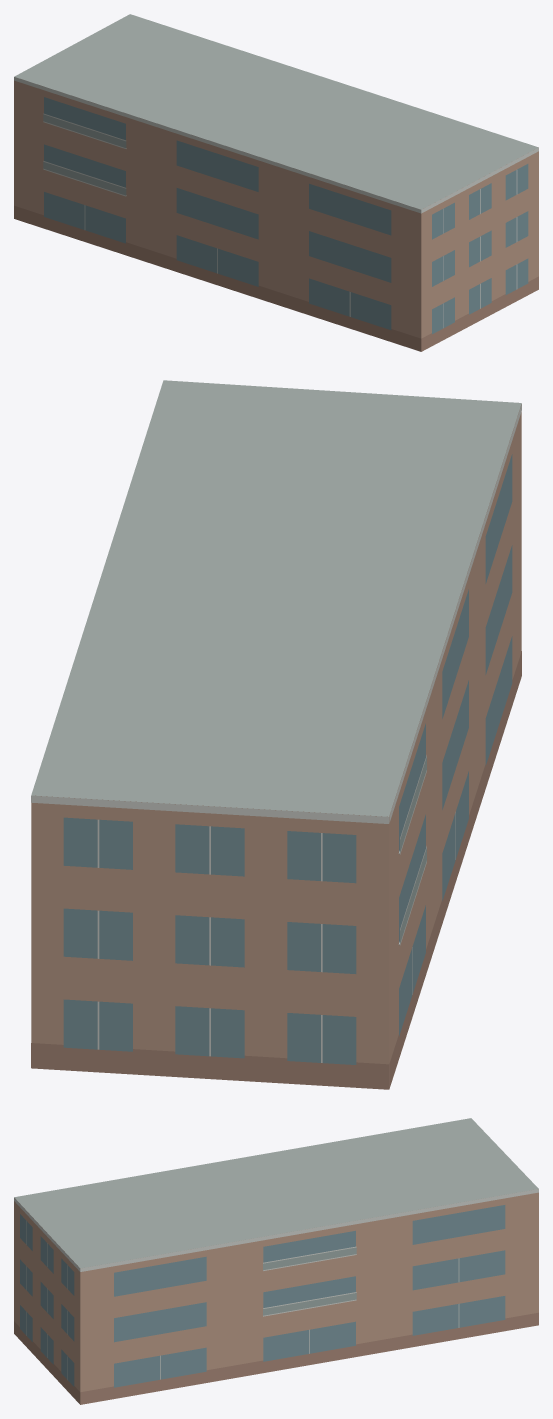
File: survey-upis-32737110.glb
The picture shows the model from 3 angles, top to bottom: view 1: azimuth 30°, elevation 25°; view 2: azimuth 150°, elevation 25°; view 3: azimuth 270°, elevation 25°; orthographic projection. The views are drawn at different scales.
Visible parts, largest first — view 1: survey-upis-32737110.tmp; view 2: survey-upis-32737110.tmp; view 3: survey-upis-32737110.tmp.
Part boxes in pixels (x1=…): survey-upis-32737110.tmp: x1=14, y1=14, x2=538, y2=351; survey-upis-32737110.tmp: x1=31, y1=380, x2=521, y2=1089; survey-upis-32737110.tmp: x1=14, y1=1118, x2=538, y2=1404.
Bounding box in the file's own units: 21.65 × 9.15 × 31.91.
